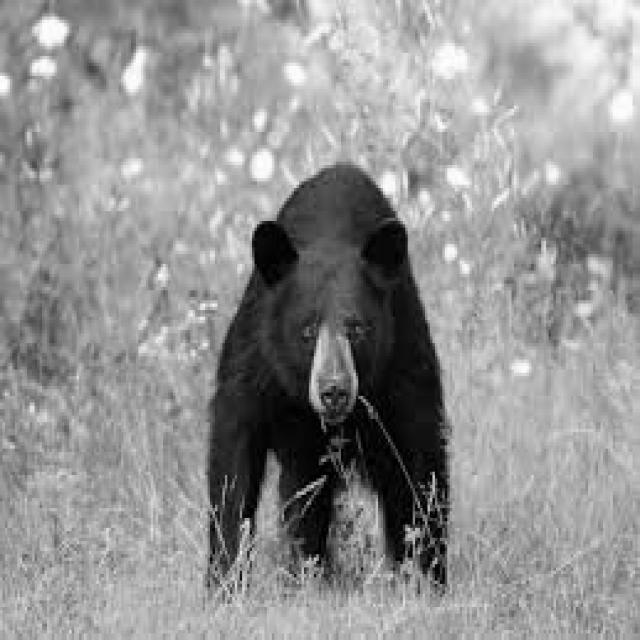Bear: (205, 158, 450, 598)
